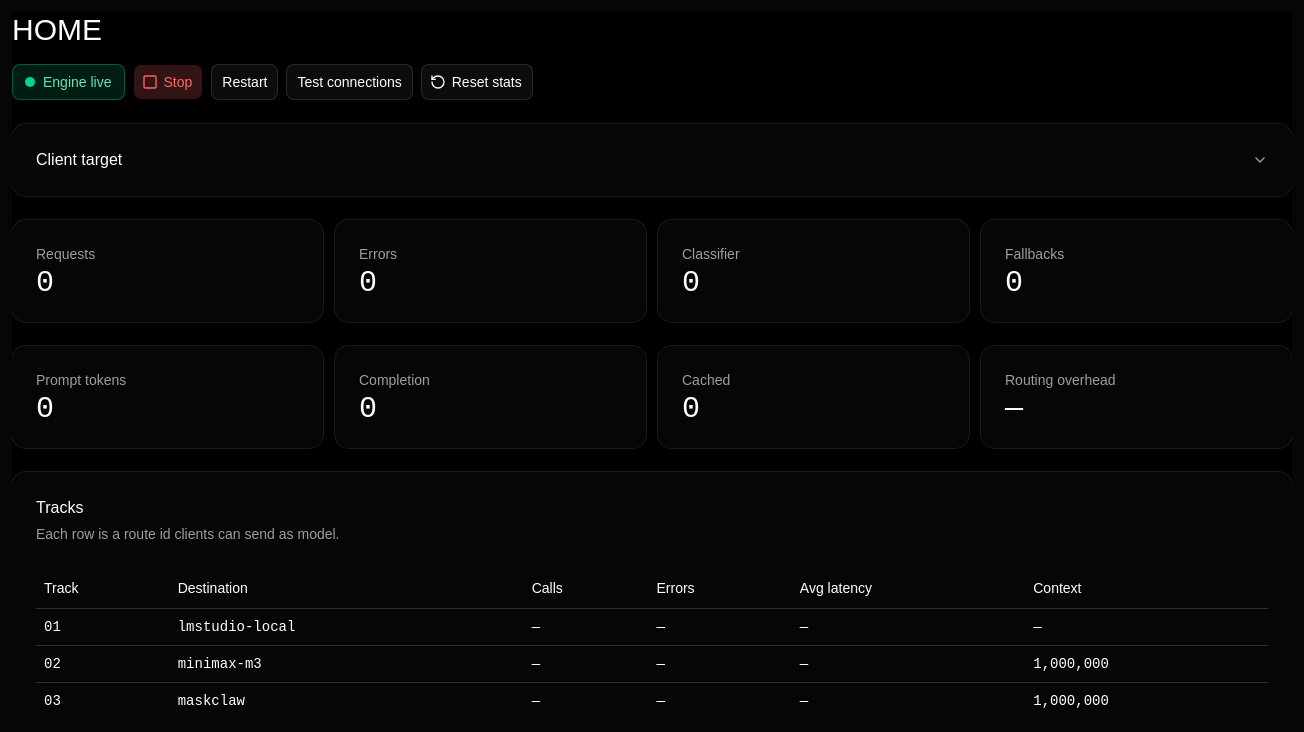
it: pages › lists every track as the client model and selects maskclaw by default
Later steps or results of the test are not shown.
Click the button "Client target".
click(79, 160)  # box [12,148,1292,172]
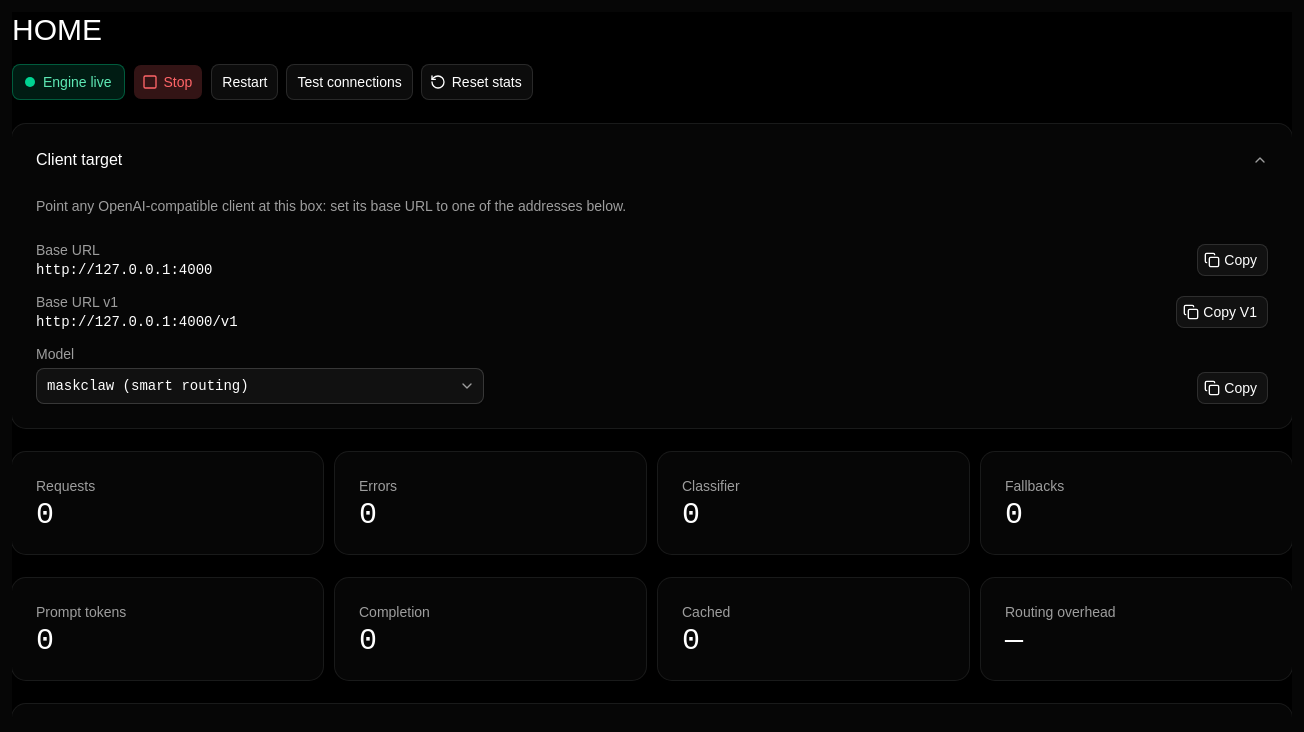
Check: the dropdown named "Model" shows "maskclaw (smart routing)", box [36,368,484,404]
